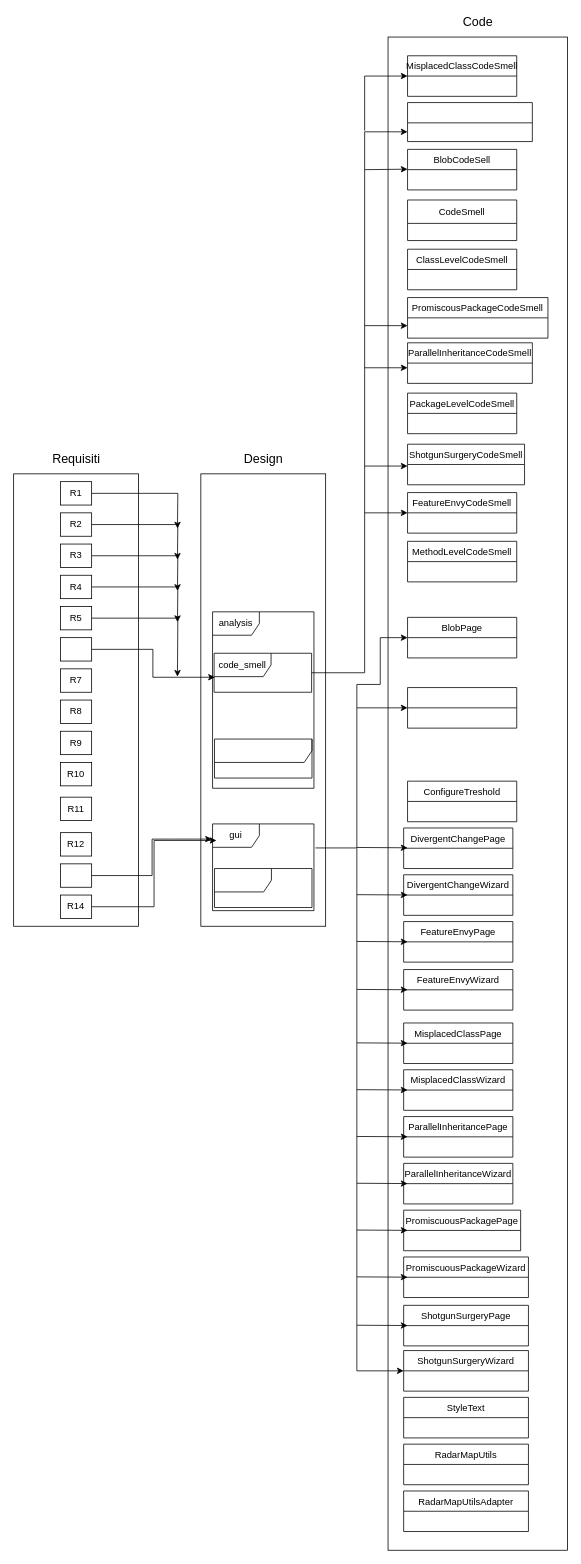
Some shapes in this 581 by 1564 pixel diagram are drawn without their labels. The centre of each missing label's shape, as x and y in pixels:
"BlobWizard" goes at point (462, 707).
"code_smell_detection" goes at point (263, 758).
"DivergentChangeCodeSmell" goes at point (469, 122).
"R13" goes at point (76, 875).
"R6" goes at point (76, 649).
"radar" goes at point (263, 888).
